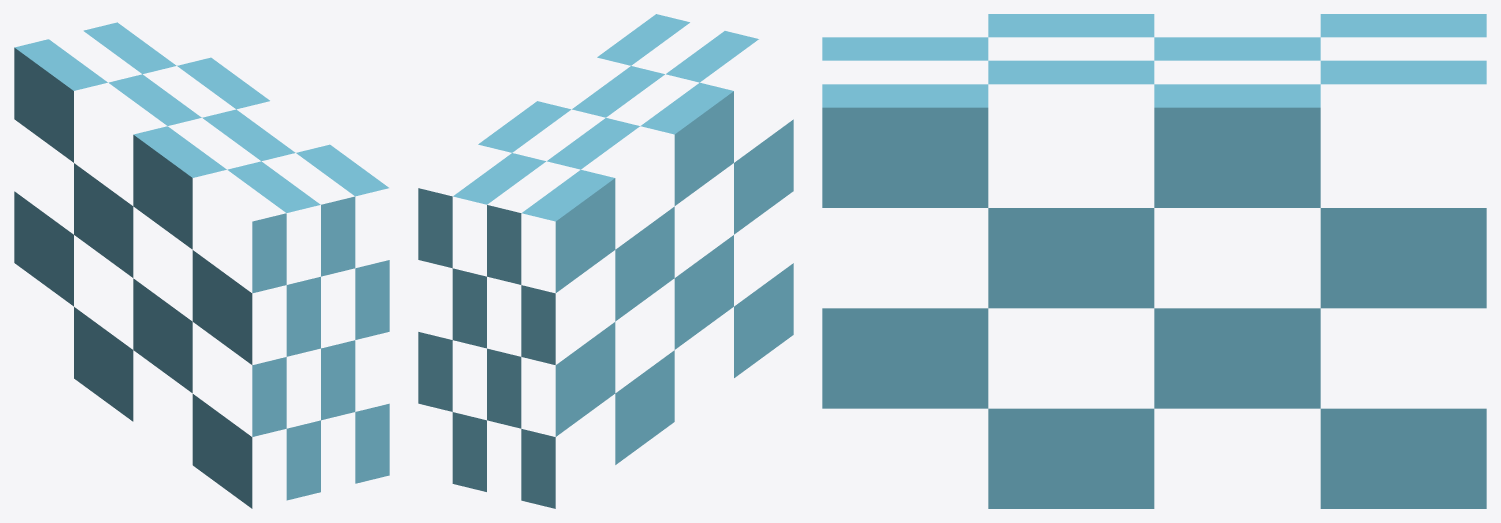
Rendered from mask_cutout_box.glb.
The picture shows the model from 3 angles, left to right: view 1: azimuth 30°, elevation 25°; view 2: azimuth 150°, elevation 25°; view 3: azimuth 270°, elevation 25°; orthographic projection. The views are drawn at different scales.
Visible parts, largest first — view 1: mask_cutout; view 2: mask_cutout; view 3: mask_cutout.
Boxes of the visible parts, bbox=[...] form: mask_cutout: bbox=[14, 22, 389, 508]; mask_cutout: bbox=[418, 14, 793, 508]; mask_cutout: bbox=[822, 14, 1486, 508].
Size of the model in its own units: 1 by 2 by 3.
1 material, 1 textured.
